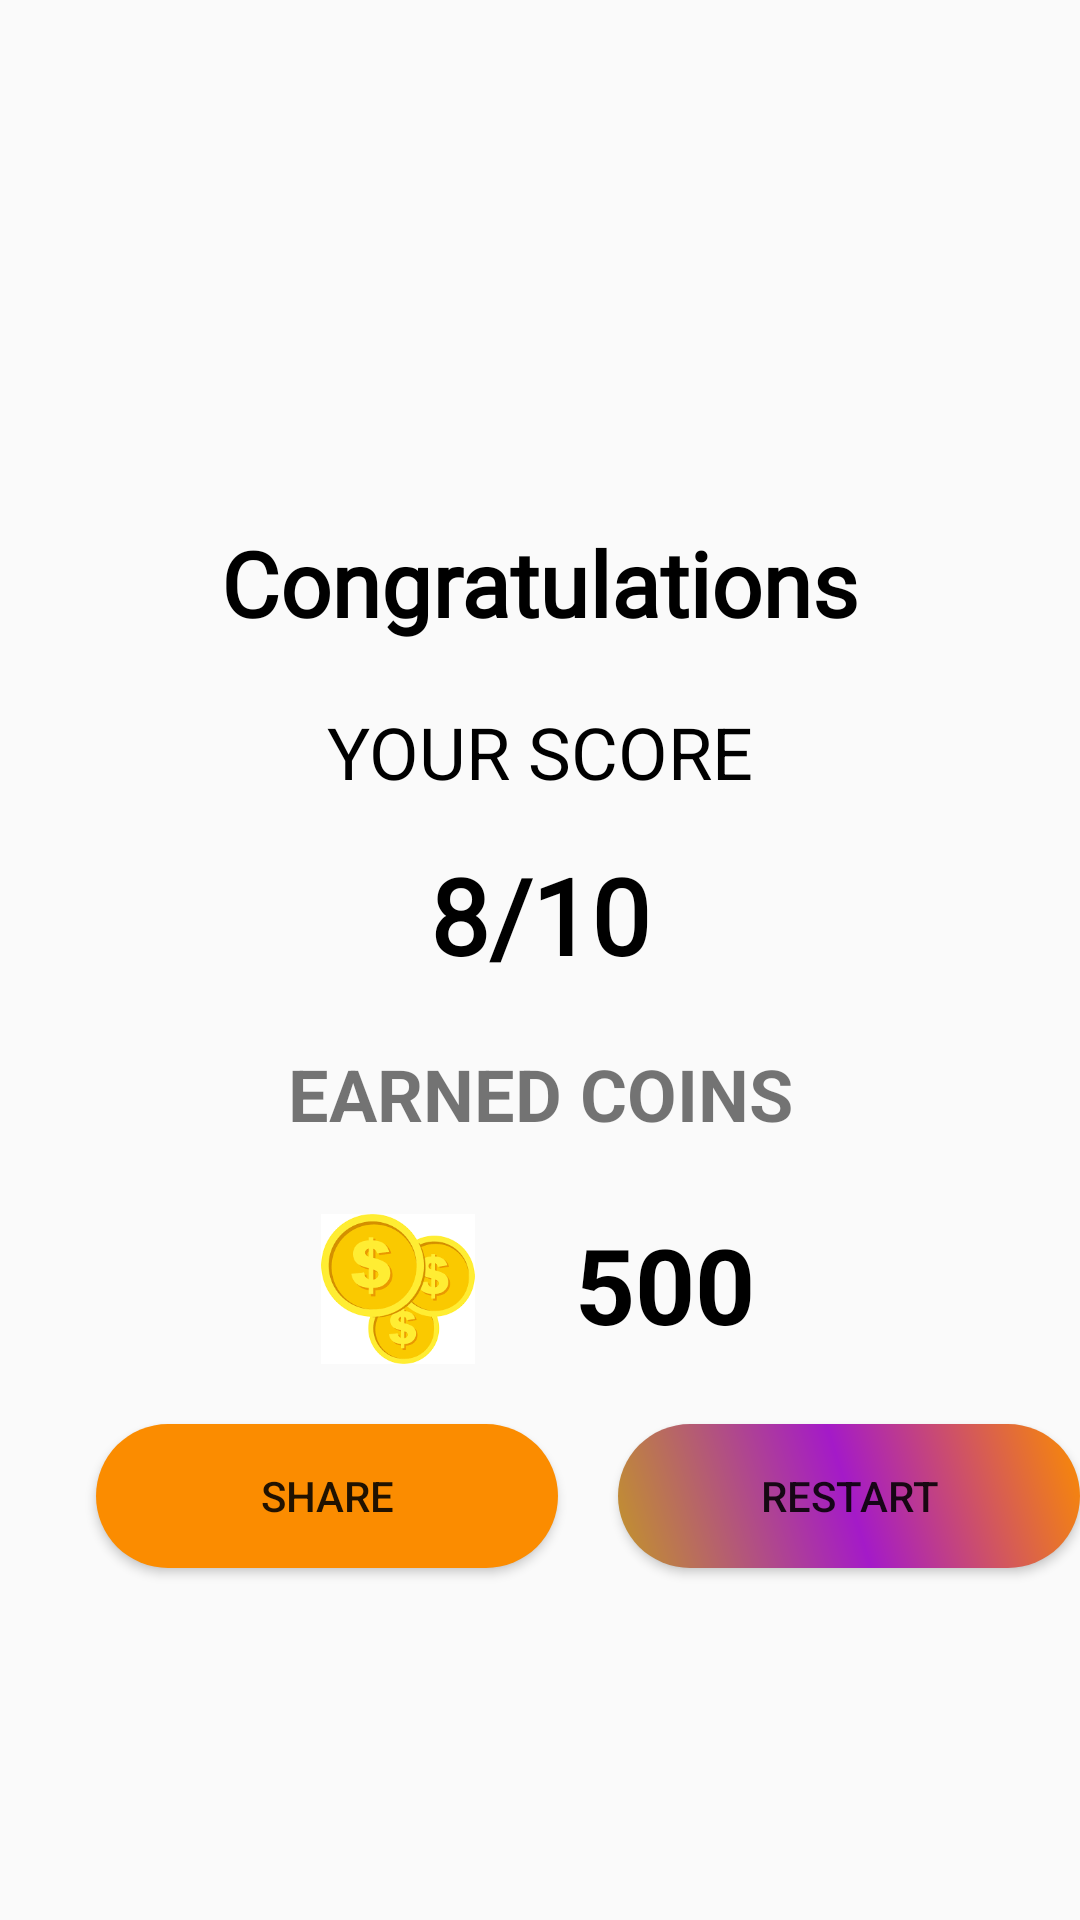

Named icons in this screenshot (1080x1920) and their bounding boxes, (x1, y1, x2, y2):
coinsones: (321, 1214, 475, 1364)
